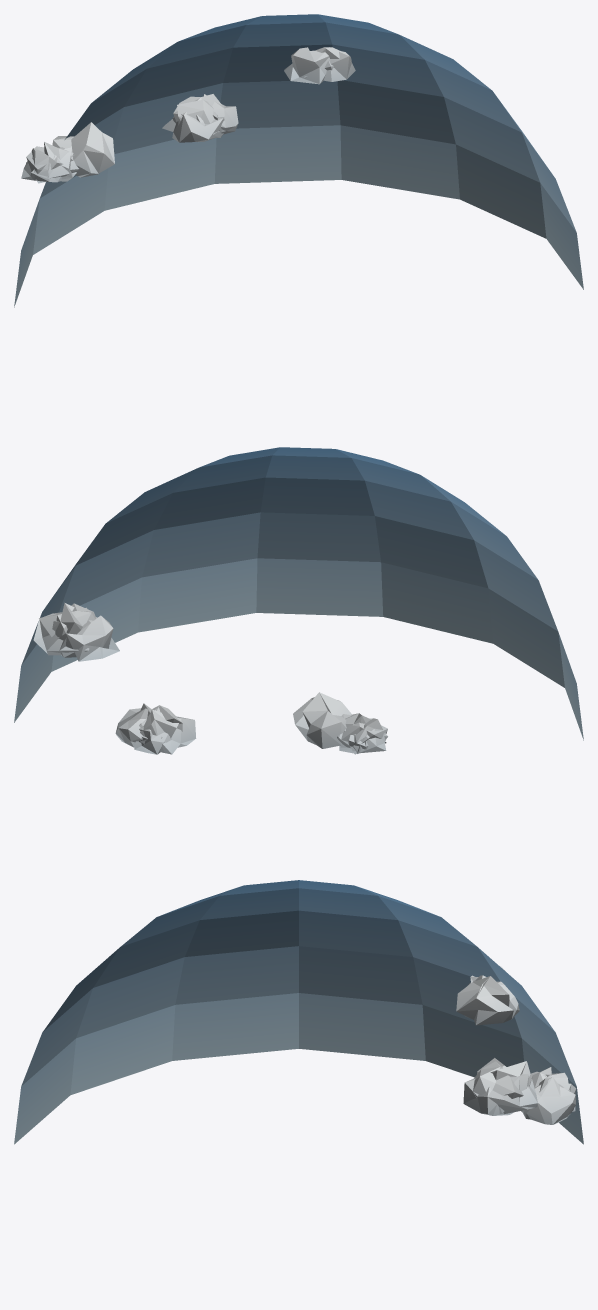
Rendered from sky-fjord-day-dome.glb.
3 renders of one model, top to bottom at view 1: azimuth 30°, elevation 25°; view 2: azimuth 150°, elevation 25°; view 3: azimuth 270°, elevation 25°, orthographic. The views are drawn at different scales.
Visible parts, largest first — view 1: sky_fjord_day_dome; view 2: sky_fjord_day_dome; view 3: sky_fjord_day_dome.
Part boxes in pixels (x1,y1,x2,y2): sky_fjord_day_dome: (14,14,583,307); sky_fjord_day_dome: (14,447,583,754); sky_fjord_day_dome: (14,880,583,1144).
Size of the model in its own units: 5.2 by 2.6 by 5.07.
